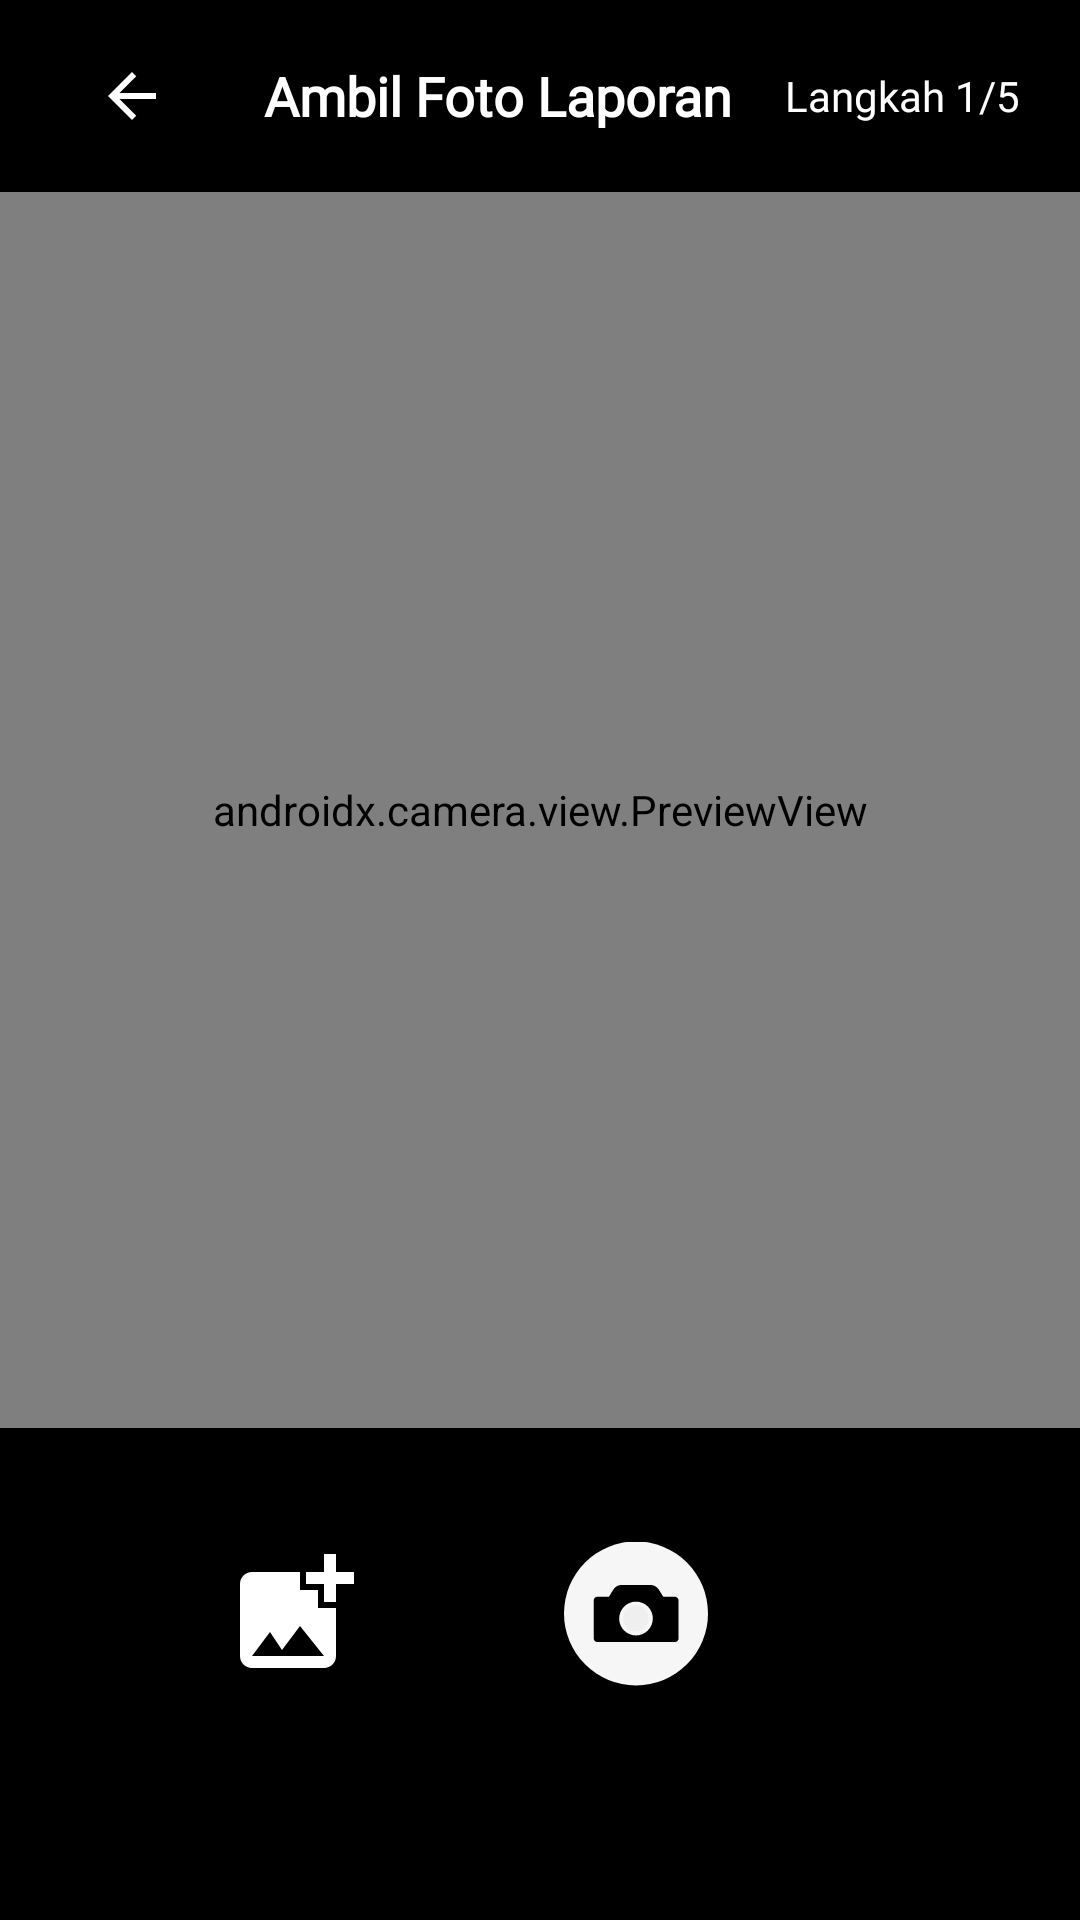

Where to tap for icons on this 1080×1920 app screen, as point (x, y):
Ambil foto: point (636, 1614)
Ambil gambar dari galeri: point (297, 1611)
Kembali ke halaman sebelumnya: point (132, 96)
